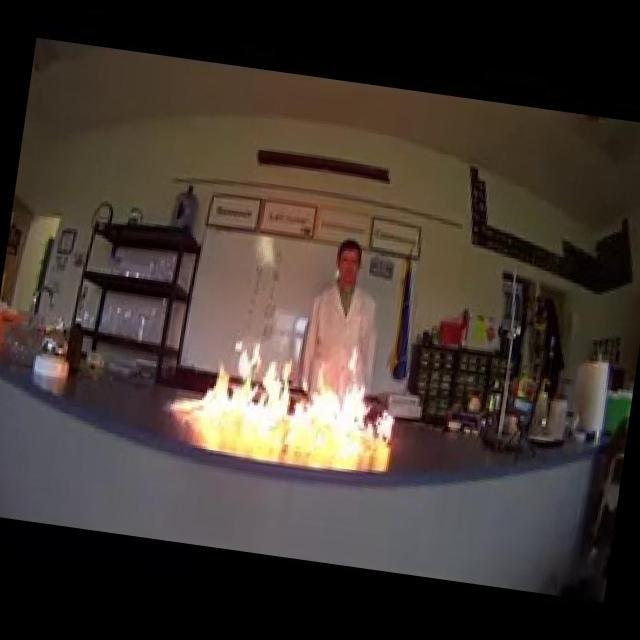Fire: (164, 330, 410, 450)
